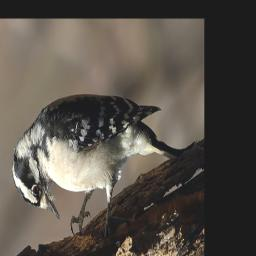Woodpecker: (13, 94, 186, 236)
